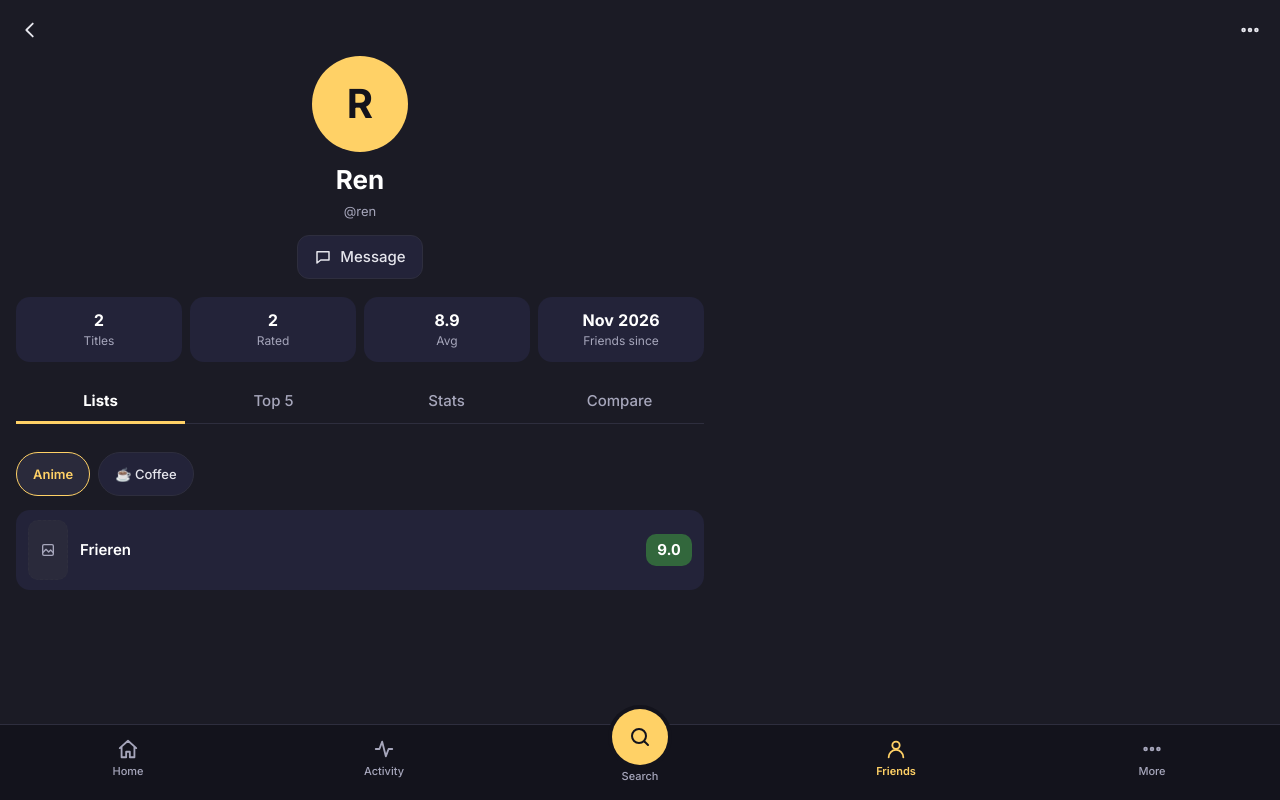
it: a friend's custom list › shows on their profile with its name and words
The image size is (1280, 800).
Expected: the heading "Ren" is shown, x1=336 y1=162 x2=384 y2=198
Click the button "☕ Coffee" at (146, 474), box x1=98 y1=452 x2=194 y2=496
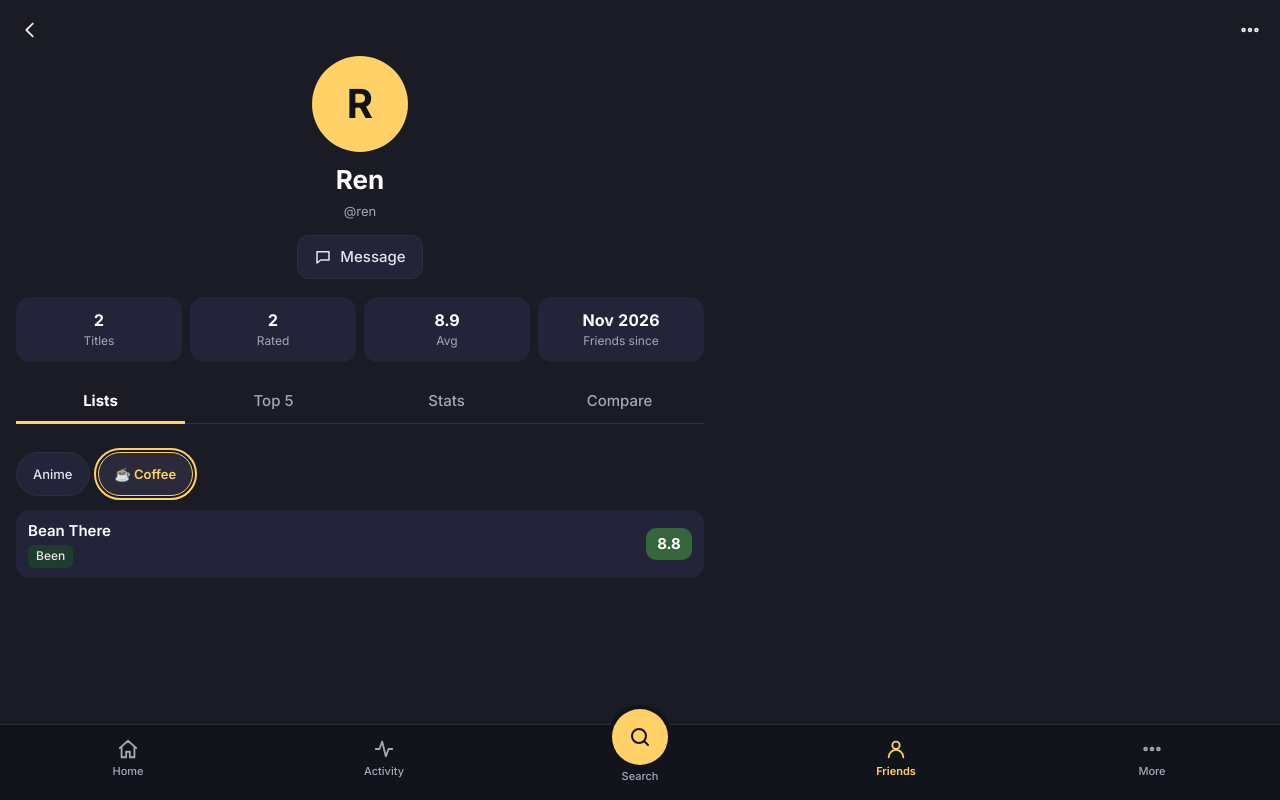
Now the text "Bean There" is shown, box x1=28 y1=521 x2=111 y2=540
Now the text "Been" is shown, box x1=28 y1=545 x2=73 y2=568
